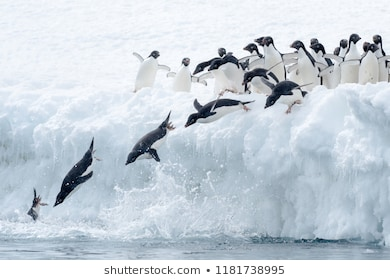penguin: (46, 134, 110, 219), (118, 106, 180, 174), (180, 87, 262, 132), (257, 73, 319, 125), (125, 45, 173, 97), (255, 34, 293, 88), (165, 52, 210, 96), (239, 68, 291, 98)
